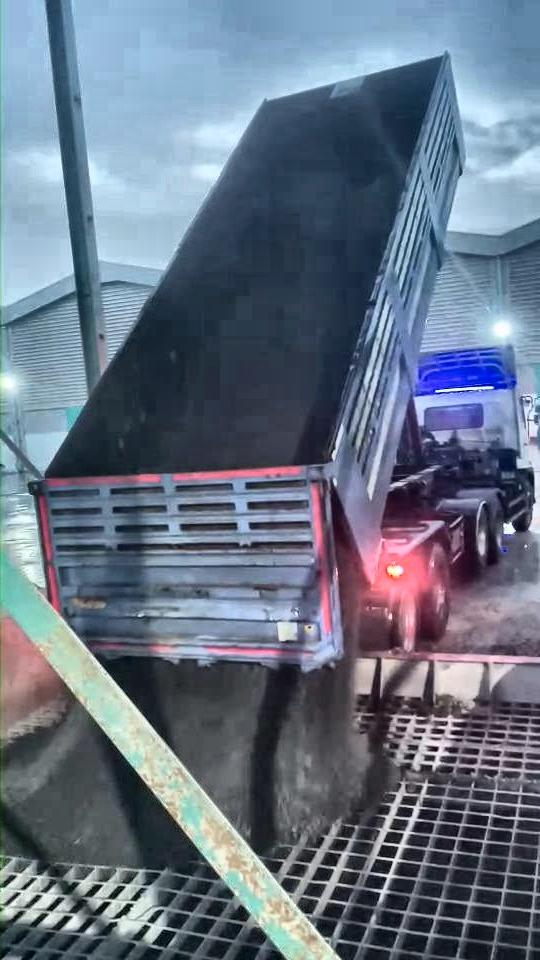gravel: (182, 173, 391, 471), (104, 650, 353, 853), (2, 693, 193, 868)
